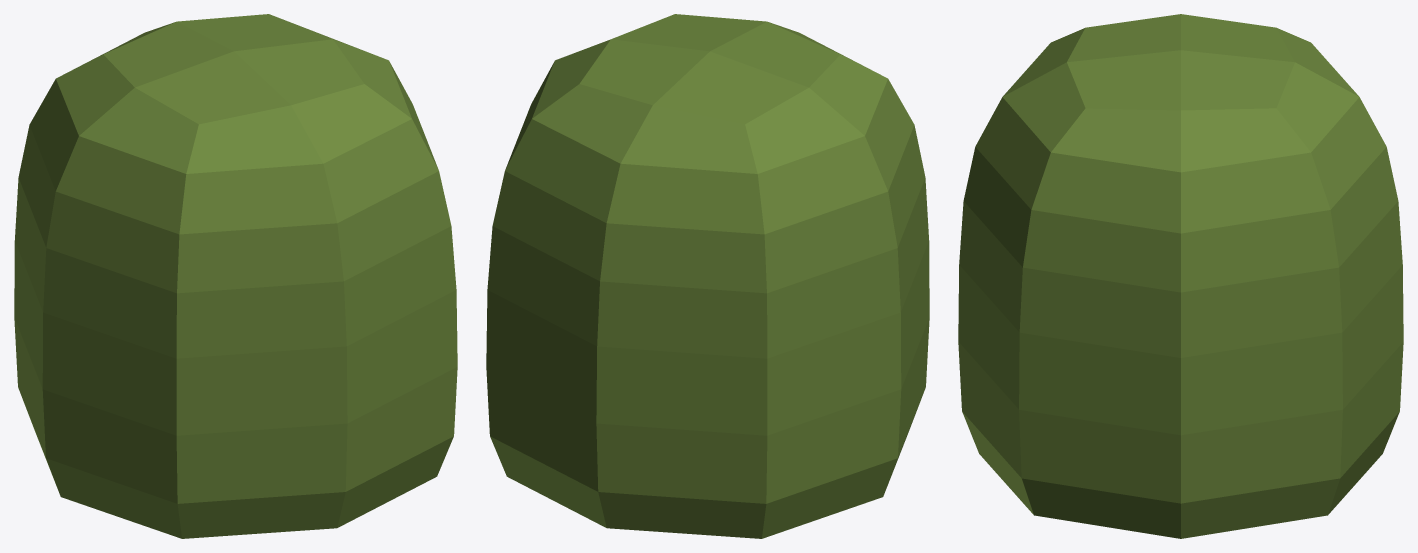
The model's file is wild_pz_bush_11.glb.
The picture shows the model from 3 angles, left to right: view 1: azimuth 30°, elevation 25°; view 2: azimuth 150°, elevation 25°; view 3: azimuth 270°, elevation 25°; orthographic projection.
Visible parts, largest first — view 1: pg_bushl_11; view 2: pg_bushl_11; view 3: pg_bushl_11.
Boxes of the visible parts, x1,y1,x2,y2 form: pg_bushl_11: [14, 14, 457, 538]; pg_bushl_11: [486, 14, 929, 538]; pg_bushl_11: [958, 14, 1403, 538].
Size of the model in its own units: 0.647 by 0.6846 by 0.647.
